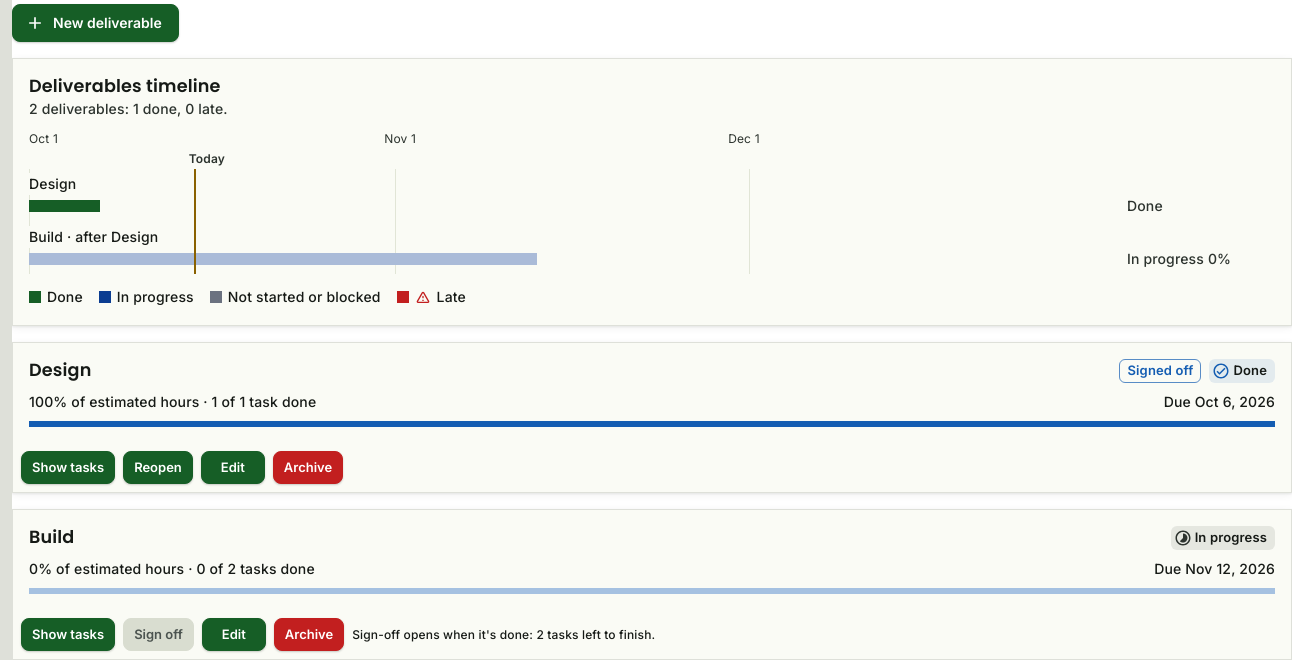
it: ProjectDetailPage › shows each deliverable with status, progress and due date, and its tasks on demand
(page scrolled)
Expected: the text "In progress" is shown, [1195,529,1267,545]
Expected: the text "0% of estimated hours · 0 of 2 tasks done" is shown, [29,558,315,580]
Click the button "Show tasks" in the row of "Sign-off opens when it's done:": point(68, 635) [21,618,115,651]
(page scrolled)
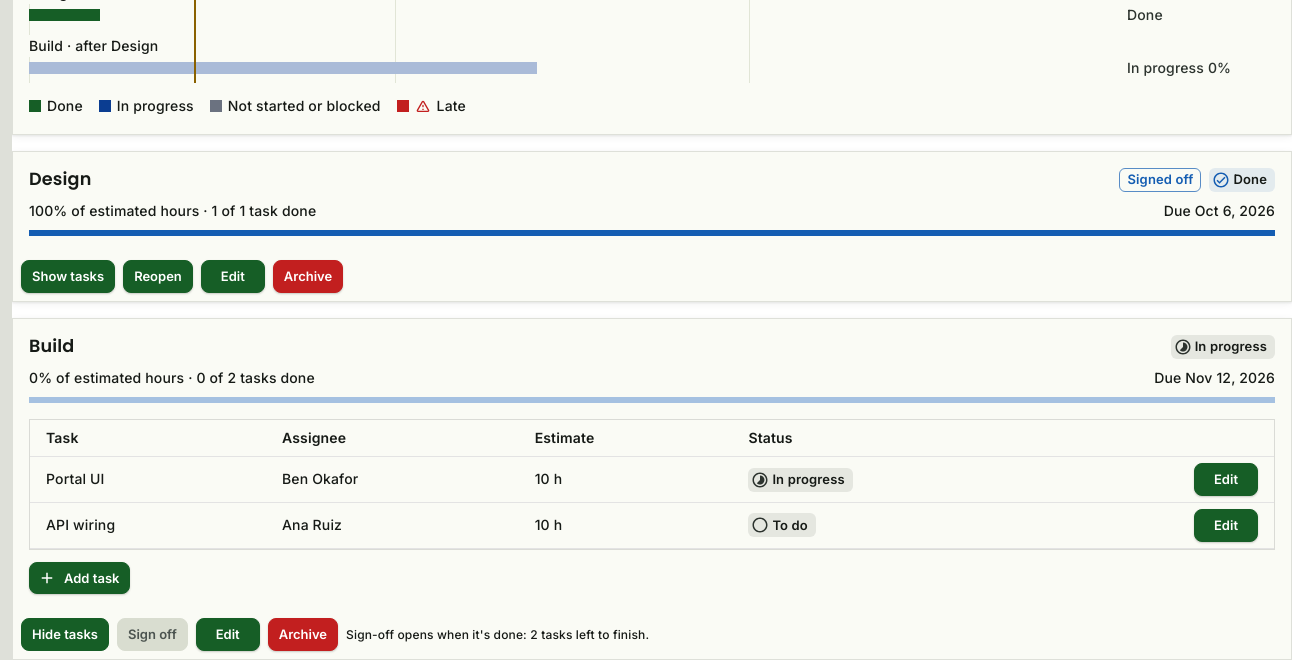
Expected: the text "Portal UI" is shown, [30,457,266,502]
Expected: the text "Ben Okafor" is shown, [266,457,519,502]
